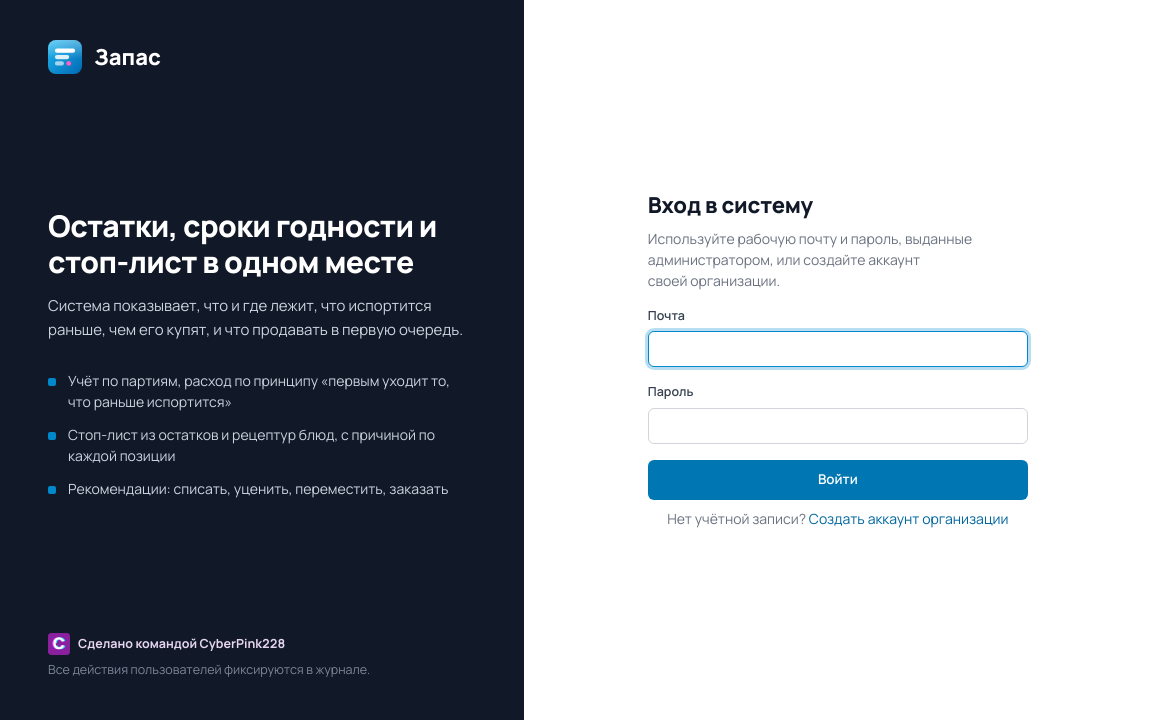
Test: второй шаг входа администратора › неверный код: сообщение на месте, поле очищено, можно ввести снова
Type "admin@zapas.local" into the field labelled "Почта" at (838, 349), box [648,331,1028,367]
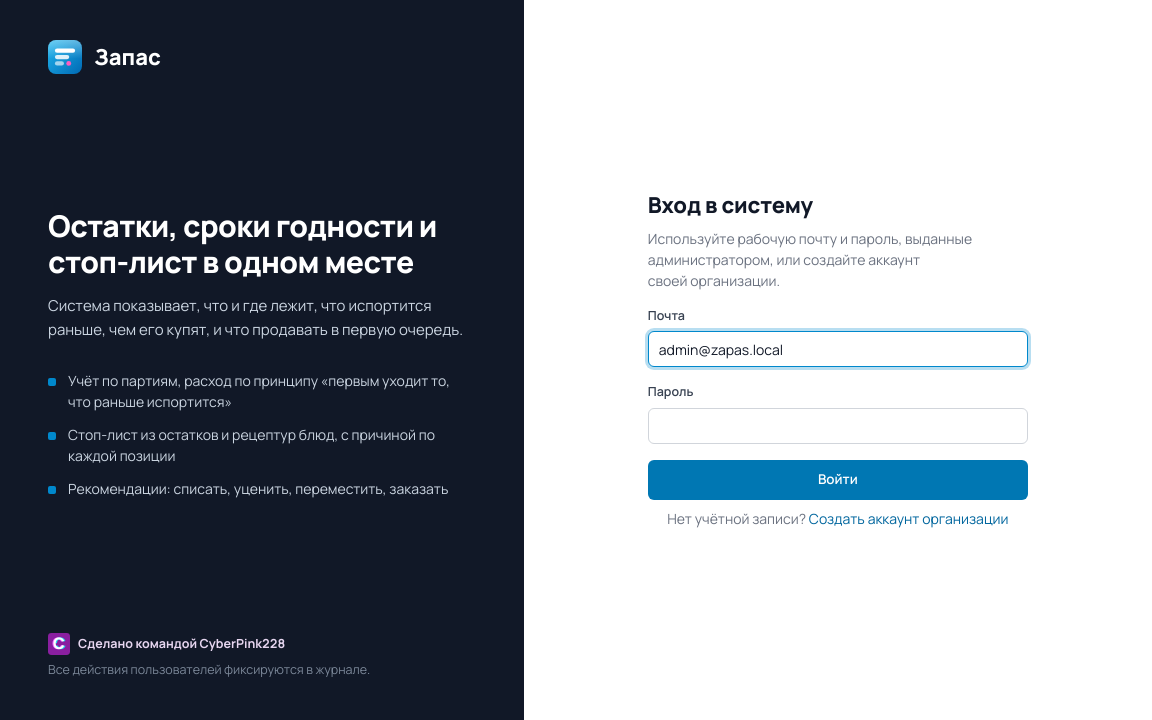
Type "какой-то-пароль" into the password field labelled "Пароль" at (838, 426), box [648,408,1028,444]
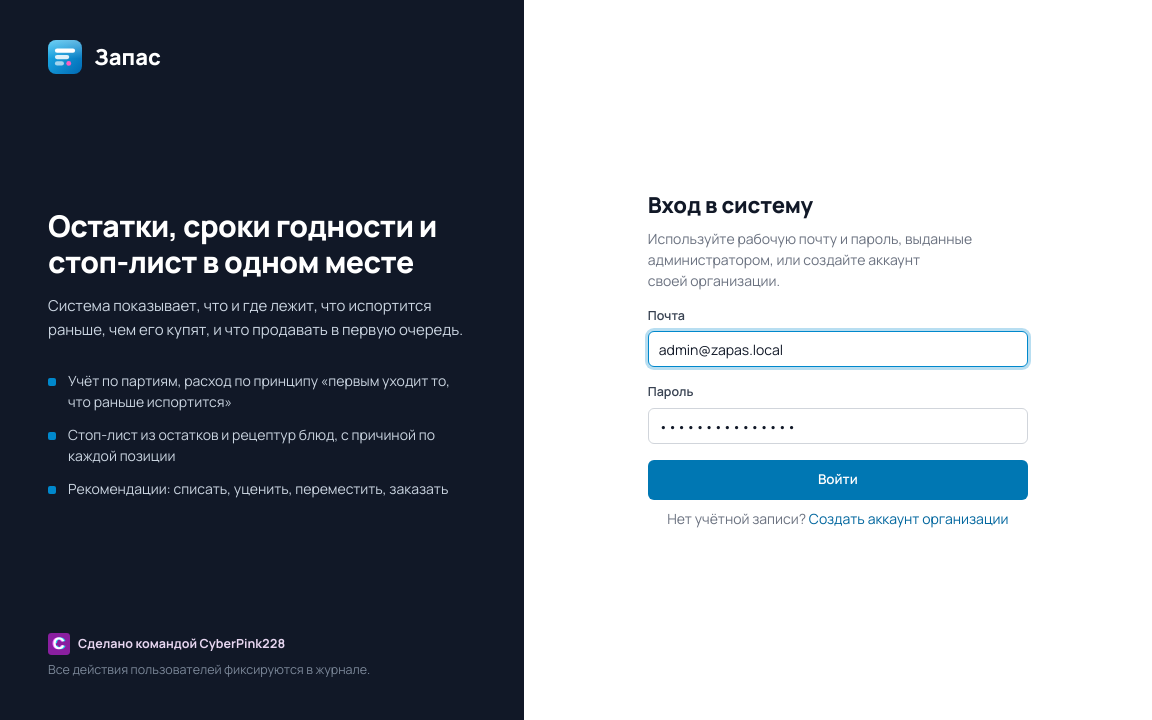
Click the button "Войти" at (838, 480), box [648,460,1028,500]
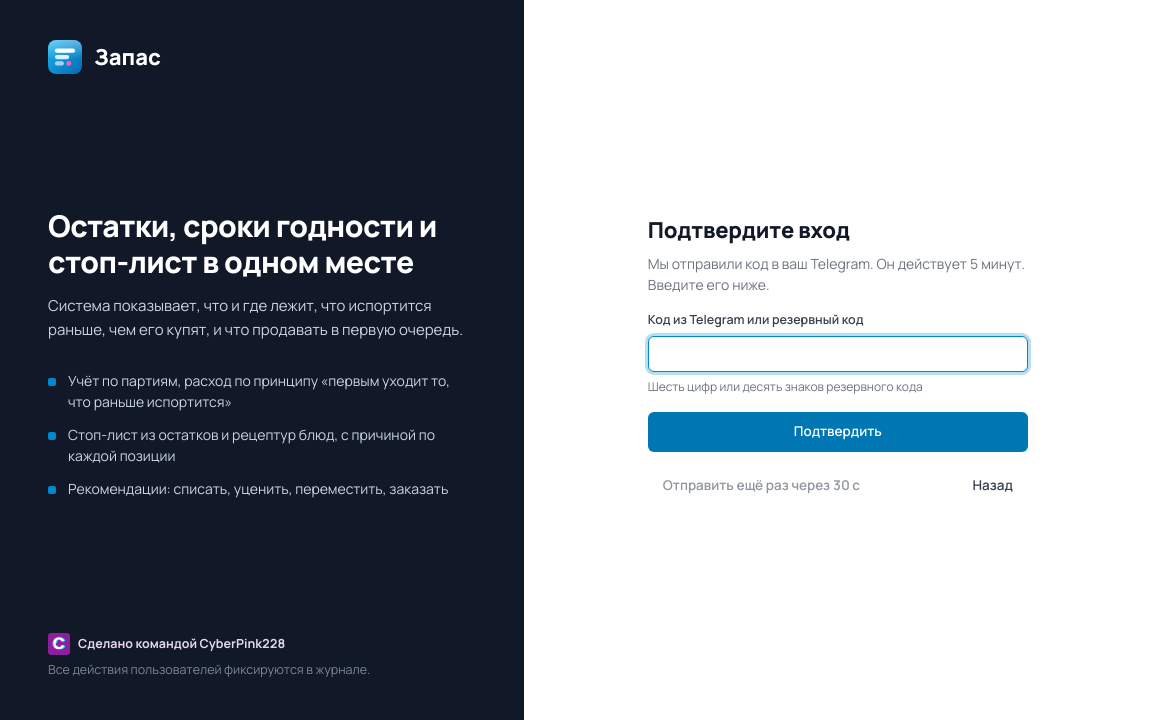
Result: the heading "Подтвердите вход" is shown at [648,215,850,245]
Type "000000" into the field labelled "Код из Telegram или резервный код" at (838, 354), box [648,336,1028,372]
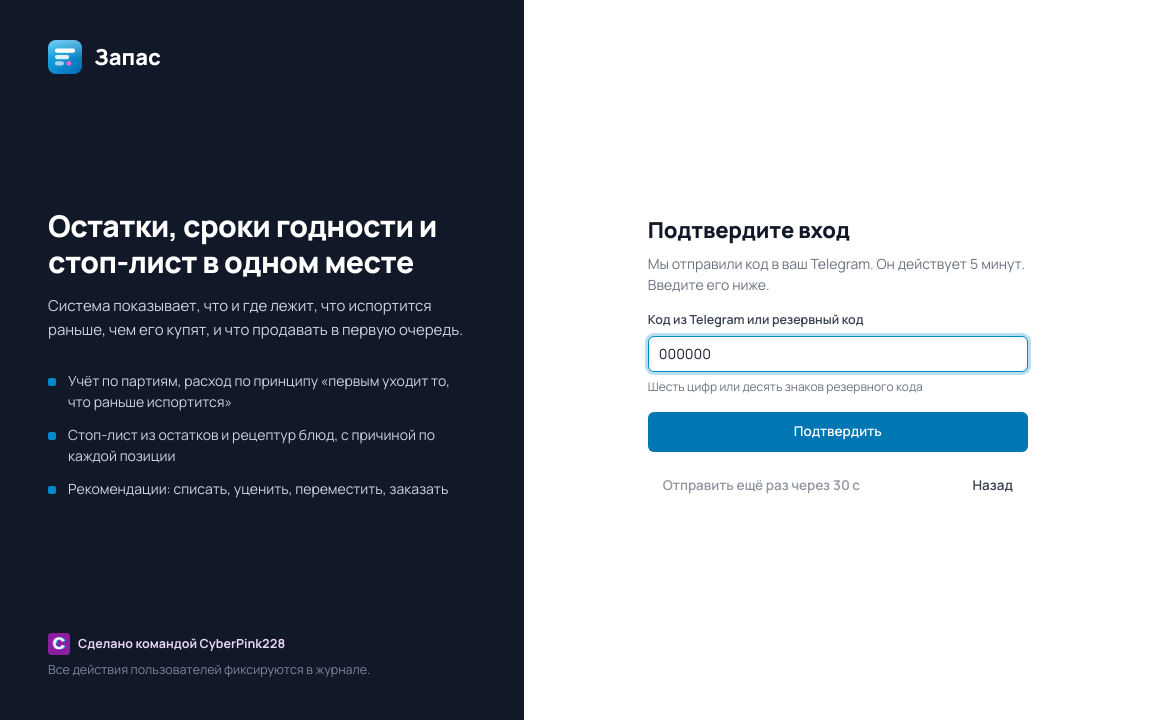
Click the button "Подтвердить" at (838, 432), box [648,412,1028,452]
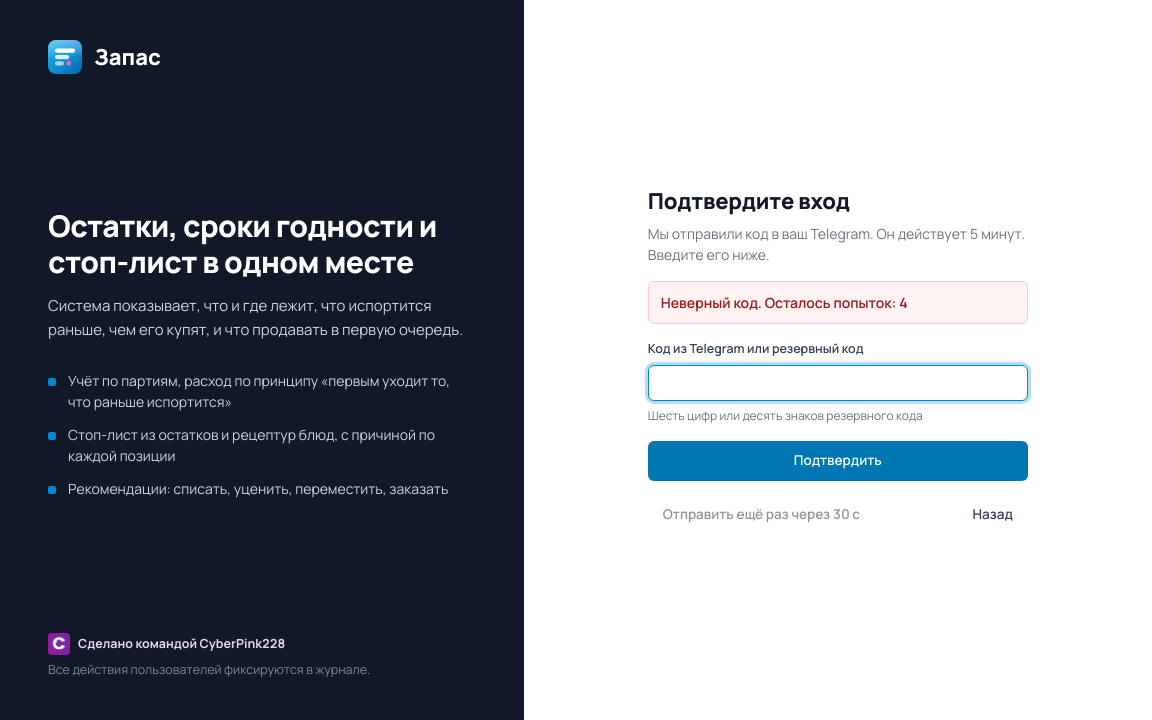
Result: the message shows "Осталось попыток: 4" at [661,293,908,312]
Result: the field labelled "Код из Telegram или резервный код" is empty at [648,365,1028,401]
